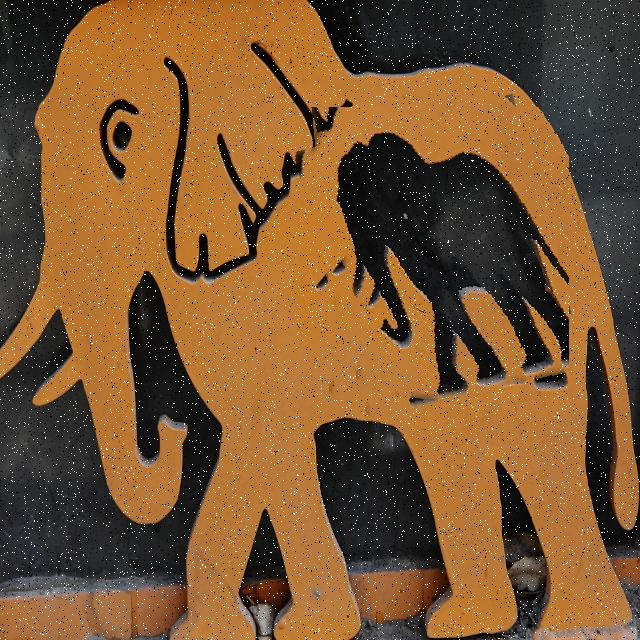elephant: (310, 107, 569, 409)
